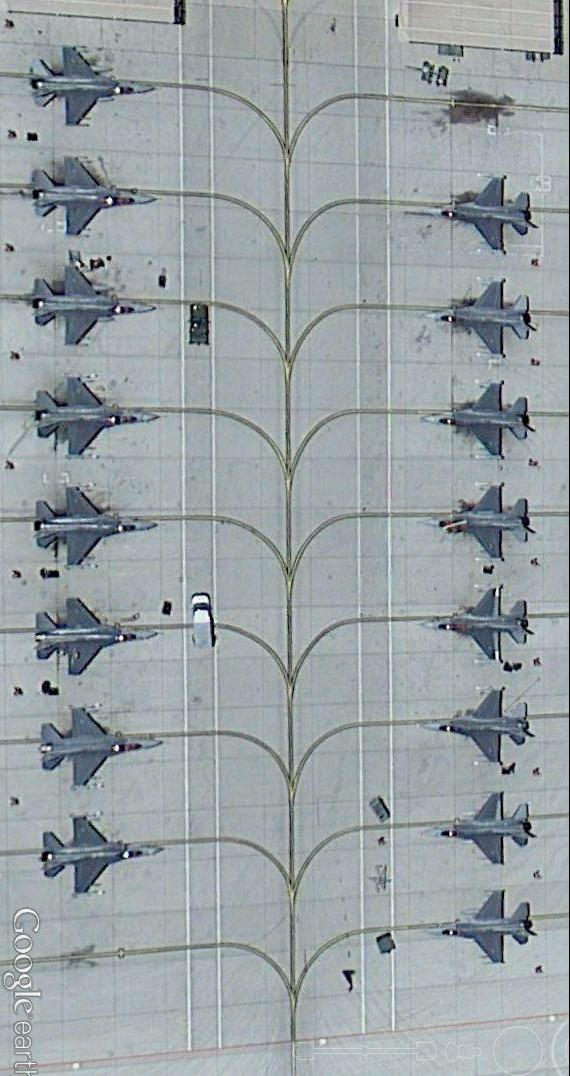F-16: (31, 373, 154, 463), (33, 596, 160, 681), (28, 45, 156, 129), (36, 483, 158, 570), (29, 267, 155, 350), (39, 708, 160, 791), (43, 813, 160, 897), (29, 160, 155, 237), (430, 168, 534, 253), (426, 684, 533, 765), (428, 579, 532, 662), (431, 478, 535, 560), (435, 884, 535, 966), (432, 275, 533, 356), (432, 793, 537, 868), (431, 380, 531, 458)
